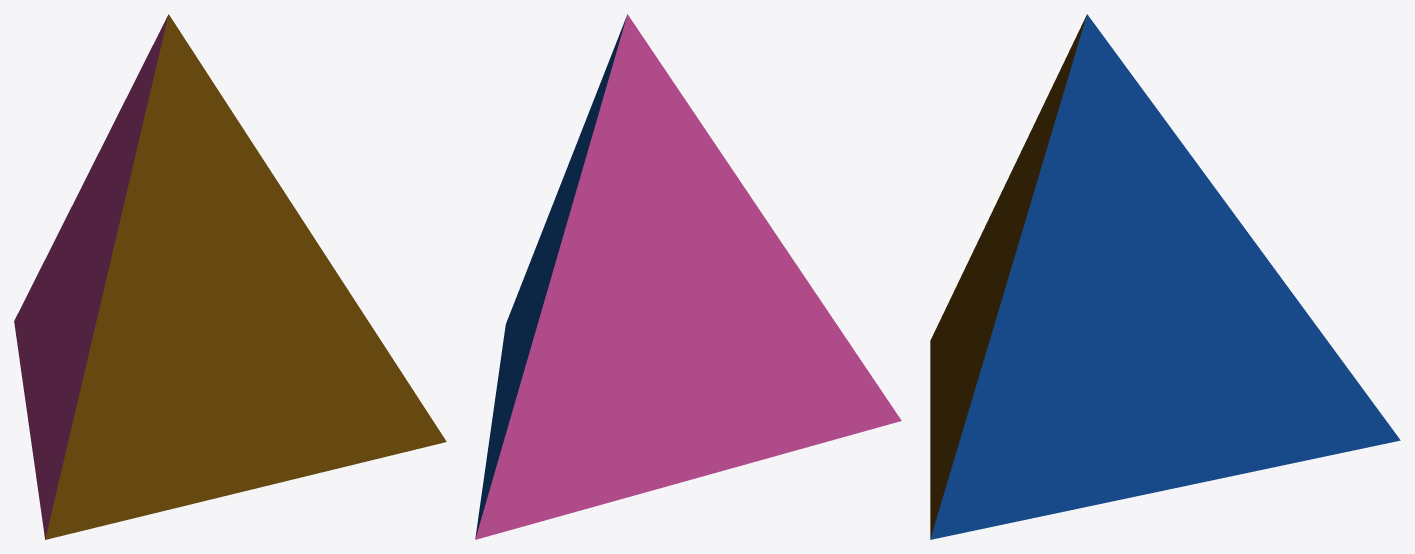
Rendered from zeometry-polyhedra-tetrahedron_v4.glb.
3 views of the same model, side by side, from view 1: azimuth 30°, elevation 25°; view 2: azimuth 150°, elevation 25°; view 3: azimuth 270°, elevation 25° (orthographic). The views are drawn at different scales.
Visible parts, largest first — view 1: Tetrahedron_v4; view 2: Tetrahedron_v4; view 3: Tetrahedron_v4.
Part boxes in pixels (x1=…): Tetrahedron_v4: x1=14, y1=14, x2=446, y2=539; Tetrahedron_v4: x1=475, y1=14, x2=901, y2=539; Tetrahedron_v4: x1=930, y1=14, x2=1400, y2=539.
Size of the model in its own units: 0.5 by 0.5 by 0.5.
